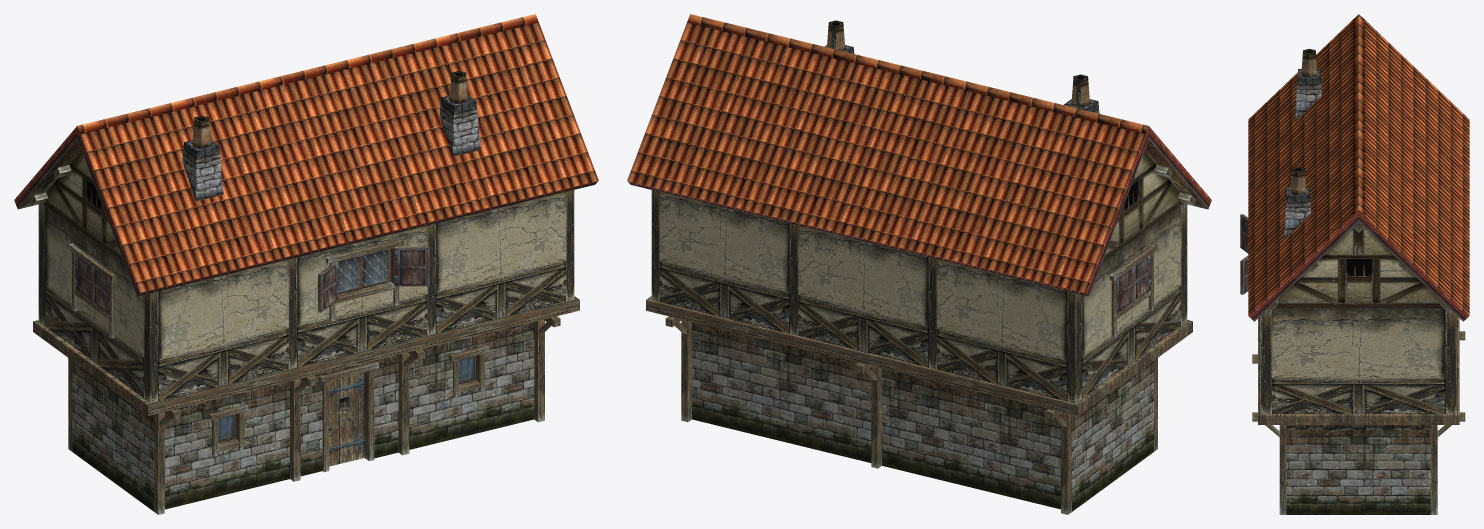
The model's file is MHOUSE4.glb.
The picture shows the model from 3 angles, left to right: view 1: azimuth 30°, elevation 25°; view 2: azimuth 150°, elevation 25°; view 3: azimuth 270°, elevation 25°; orthographic projection. The views are drawn at different scales.
Parts seen in each view (by area): view 1: MHOUSE4; view 2: MHOUSE4; view 3: MHOUSE4.
Boxes of the visible parts, left/top/right/bottom form: MHOUSE4: left=14, top=14, right=598, bottom=514; MHOUSE4: left=627, top=14, right=1211, bottom=514; MHOUSE4: left=1240, top=14, right=1469, bottom=514.
Bounding box in the file's own units: 13.52 × 10.39 × 6.67.
Materials: 11 (11 with a texture image).
